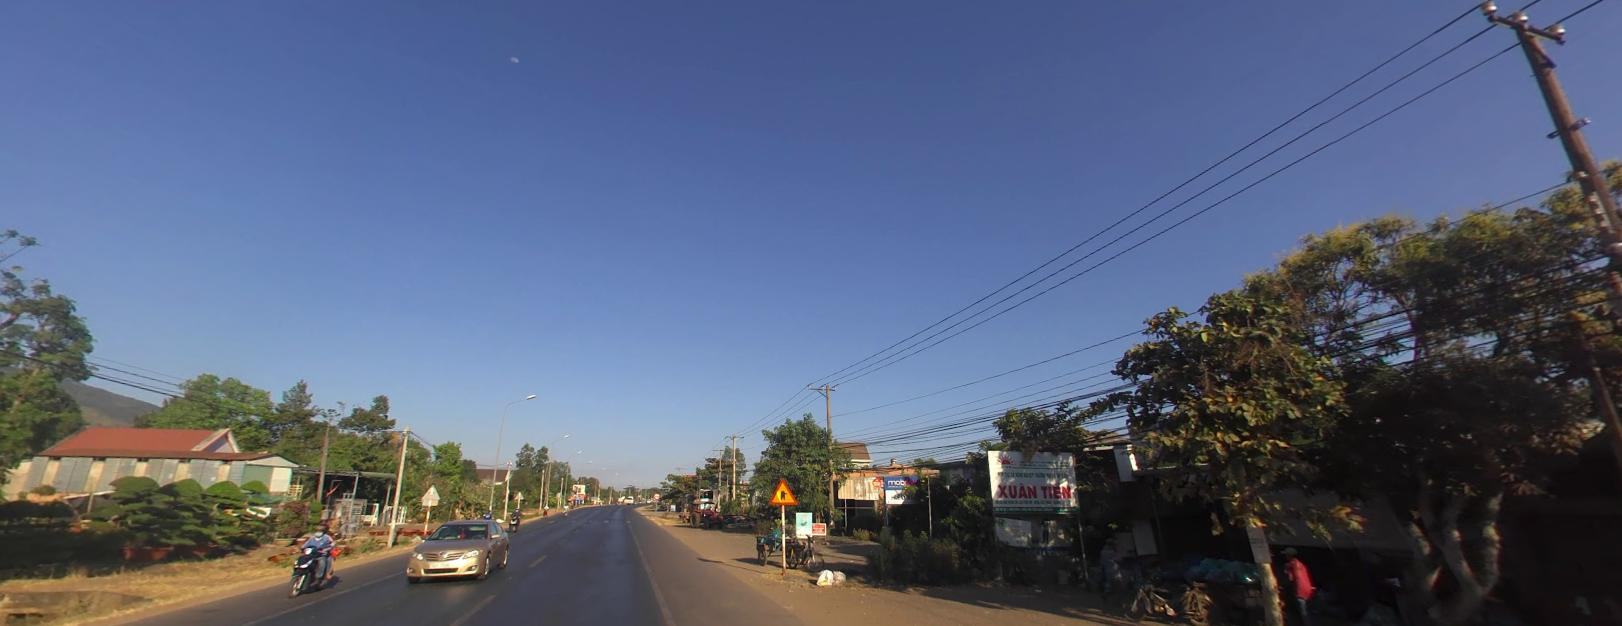Cam con lai: (652, 491, 660, 499)
Nguy hiem: (765, 478, 799, 506)
